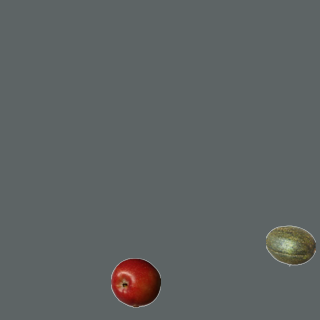Apple Braeburn: (110, 257, 160, 307)
Melon Piel de Sapo: (265, 220, 315, 270)
